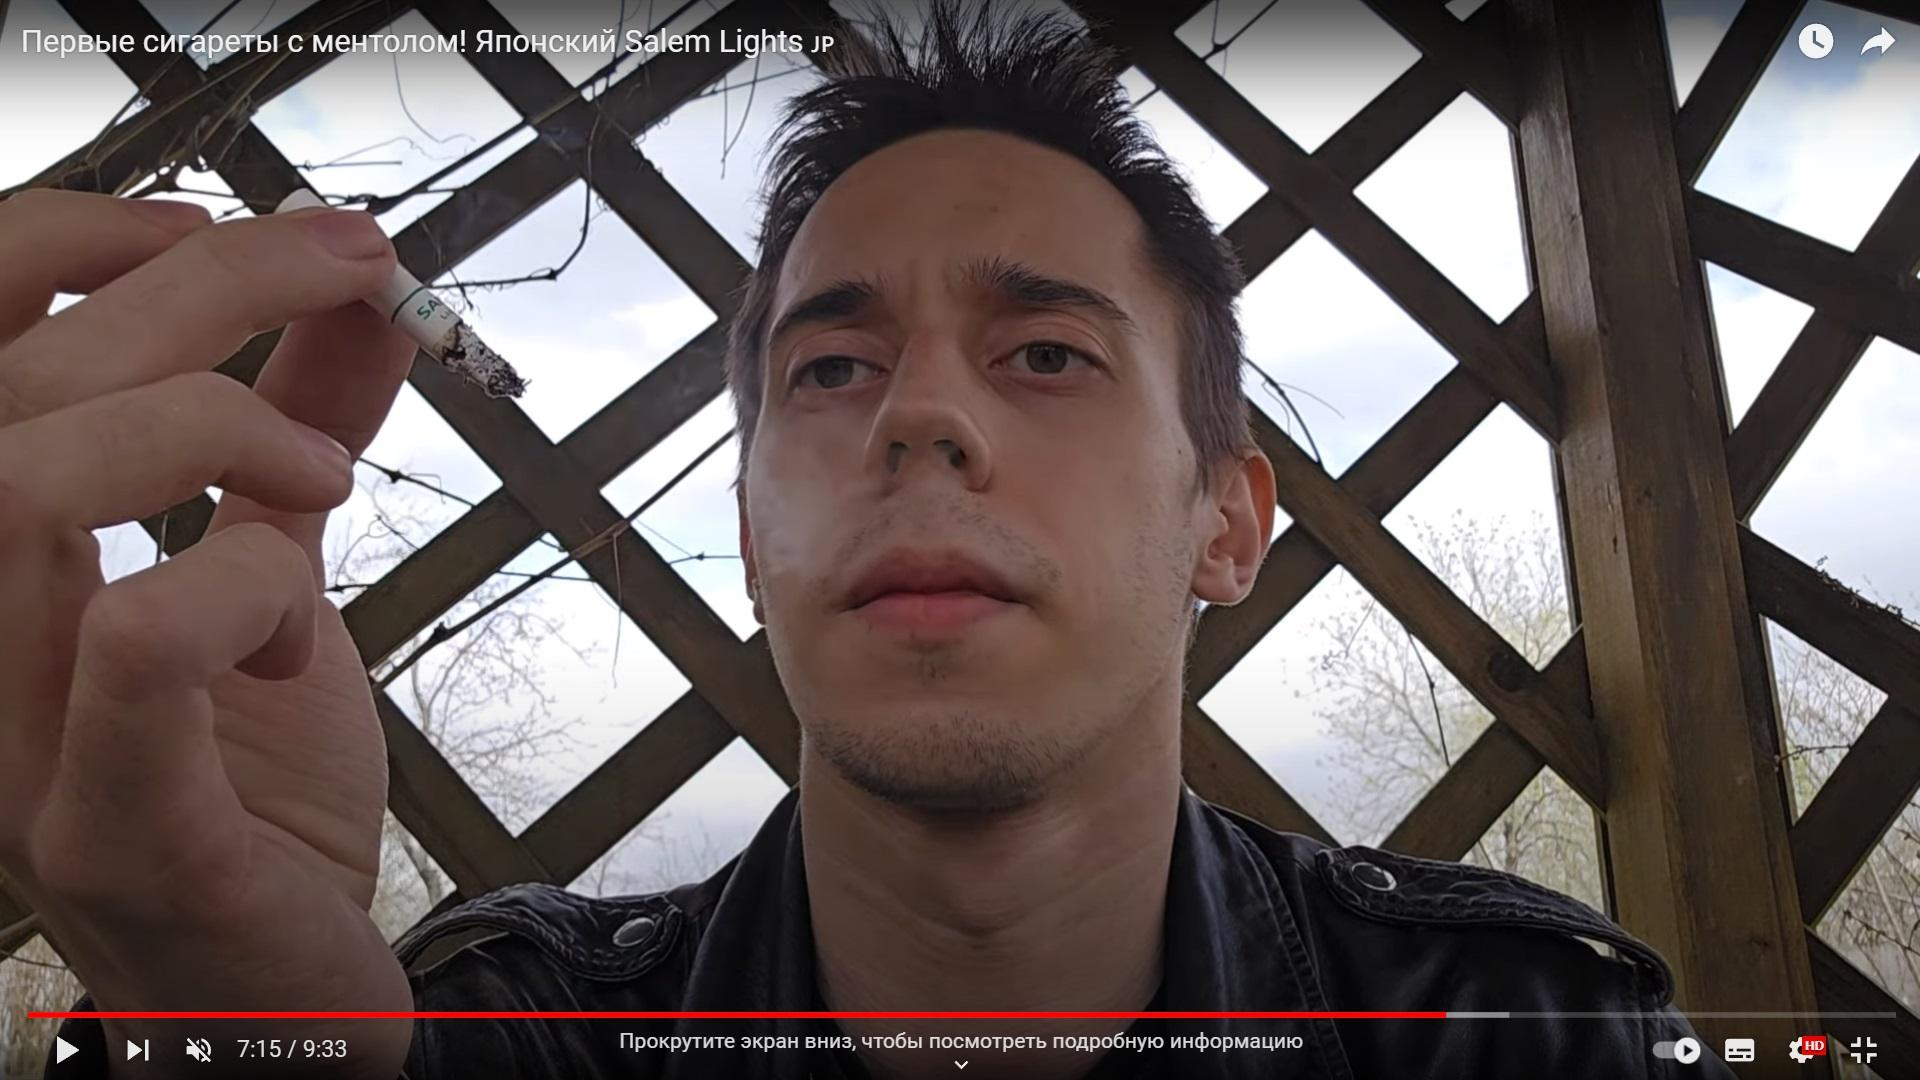cigarette: (268, 189, 525, 397)
